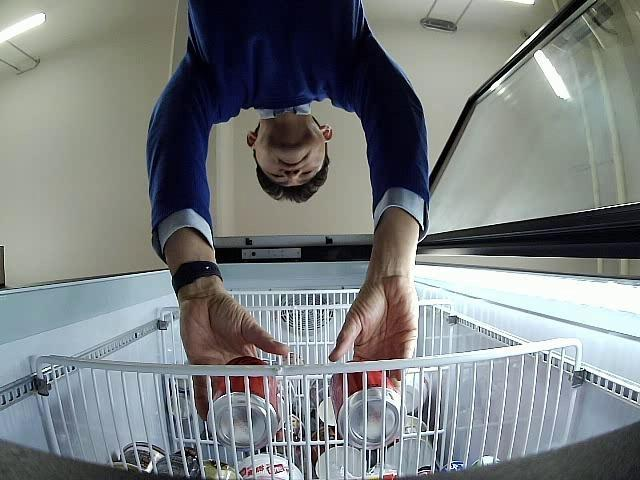11_cocaColaZero: (206, 356, 278, 452), (332, 360, 408, 450)
